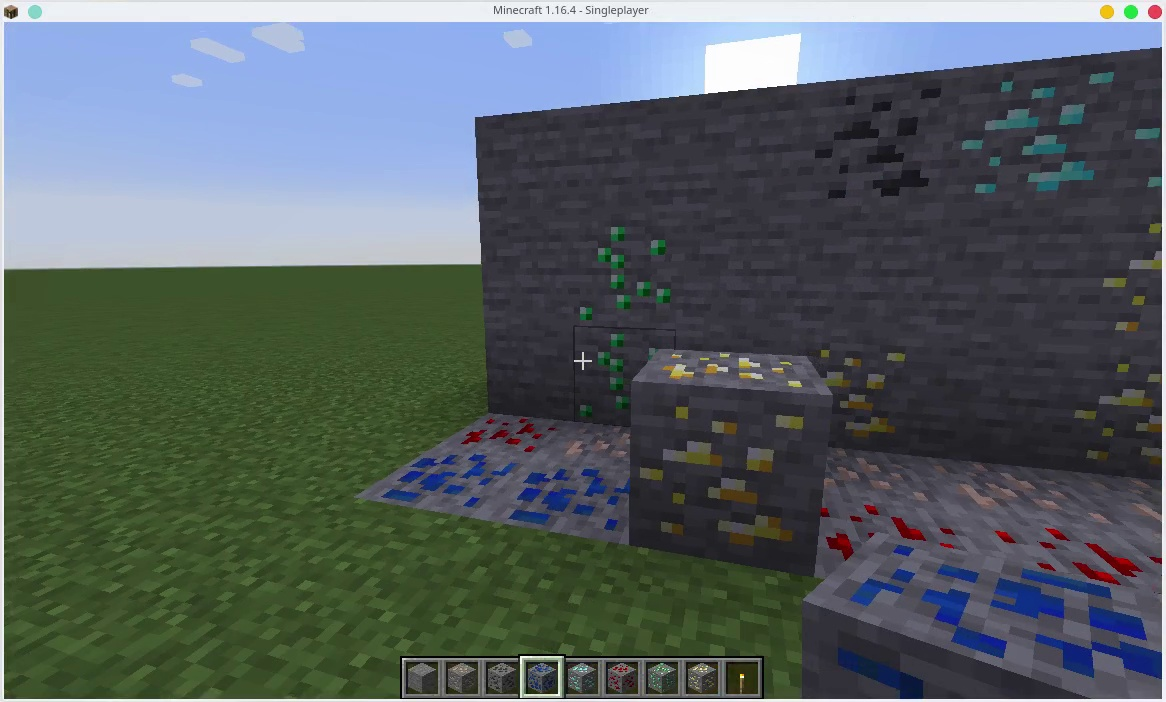gold: (634, 346, 818, 553), (1059, 355, 1166, 467), (1080, 223, 1166, 328), (833, 347, 929, 437), (687, 661, 718, 695)
